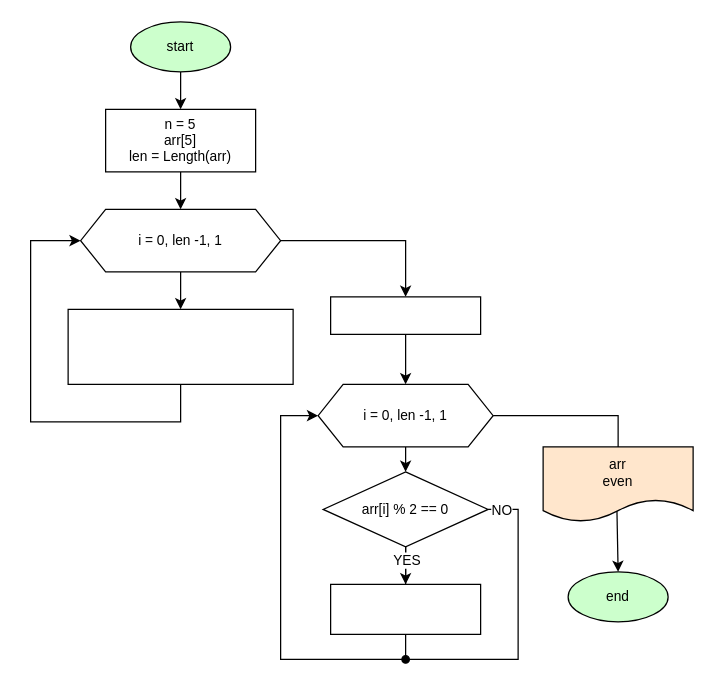
The diagram is 715 pixels wide and 691 high, and some of its shapes have lost their labels. Here are the shapes that lost their labels. From the top down, the box of each, then its label:
(329, 296, 481, 334): even = 0
(67, 308, 293, 384): arr[i] = Random [100, 999]
(329, 583, 481, 634): even = even +1
